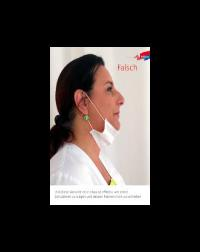mask_weared_incorrect: (98, 76, 127, 150)
